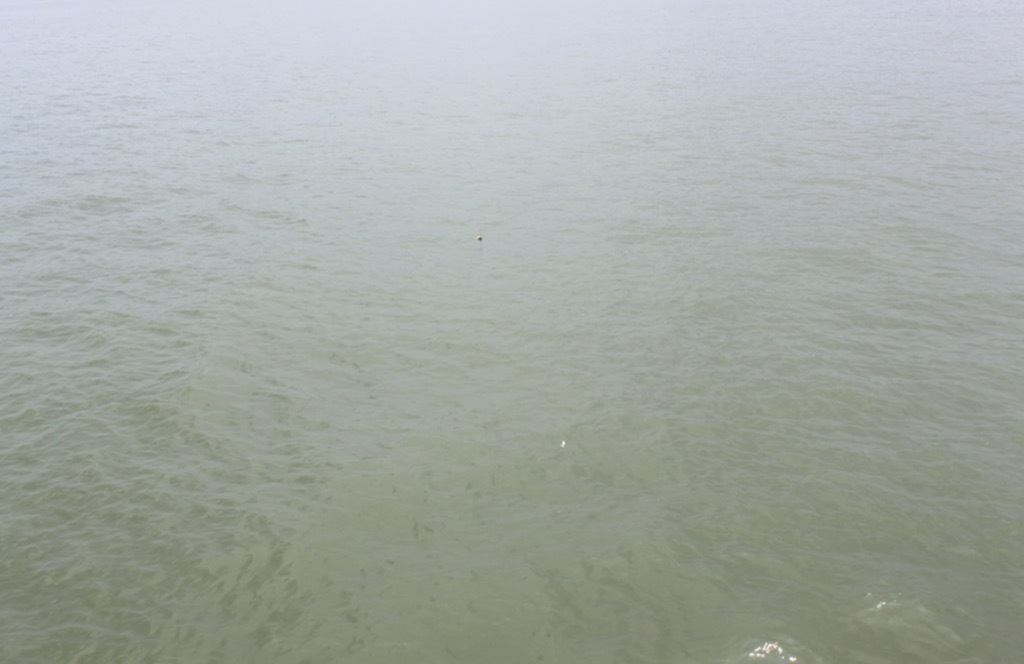plastic: (548, 427, 578, 463), (465, 225, 500, 254)
